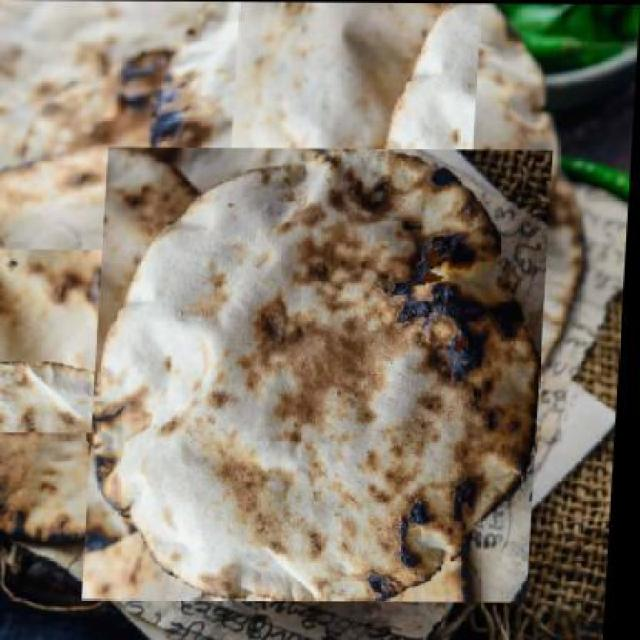chapati: (87, 148, 558, 602), (185, 2, 526, 289), (0, 195, 231, 491)
